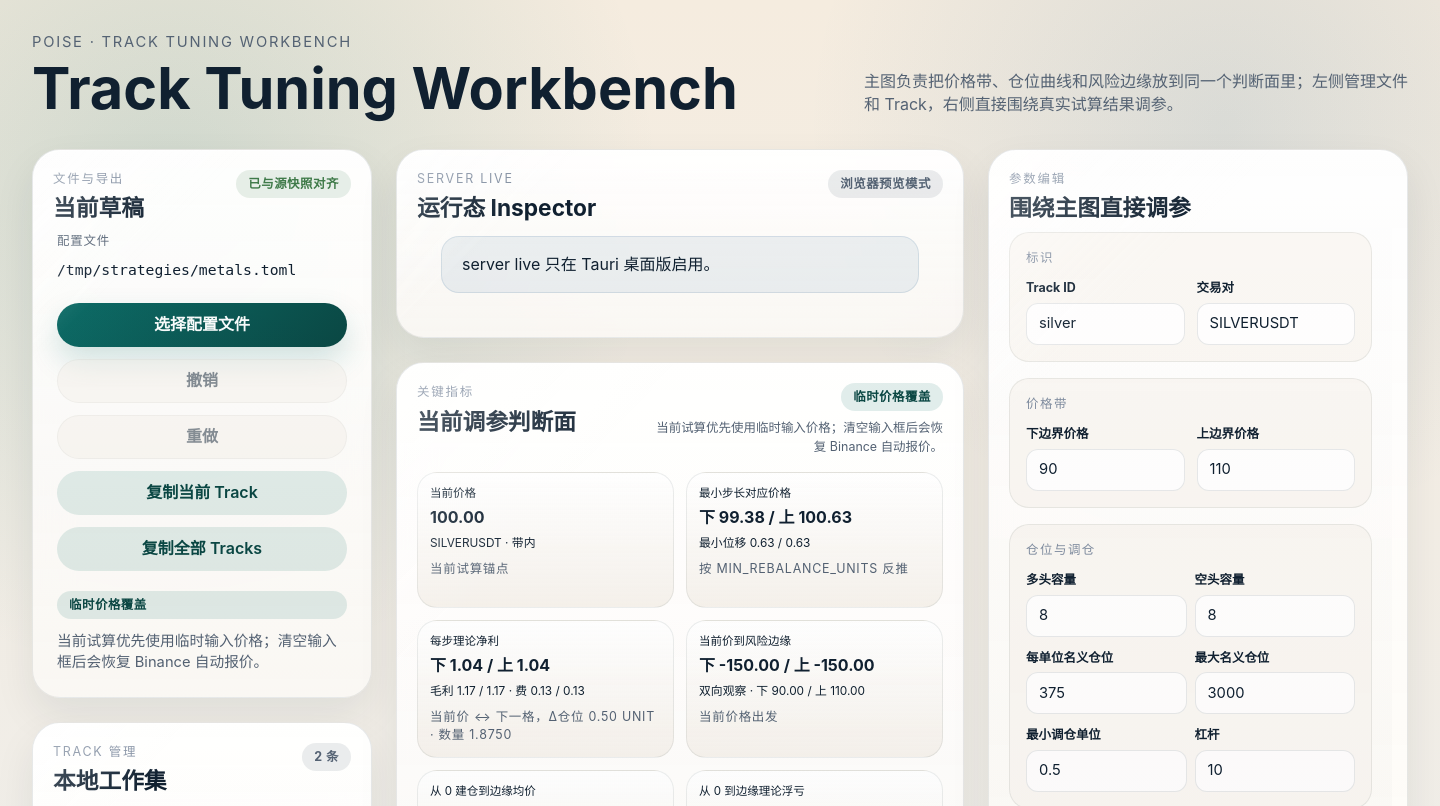
Test case: AppShell › recomputes min rebalance metrics when the min rebalance units field changes
Expected: the text "最小位移 0.63 / 0.63" is shown, top-left (699, 536), bottom-right (810, 550)
Expected: the text "下 1.04 / 上 1.04" is shown, top-left (430, 655), bottom-right (550, 675)
Replace the text in the field labelled "最小调仓单位" with "1.0" at (1106, 771), box top-left (1026, 750), bottom-right (1186, 792)
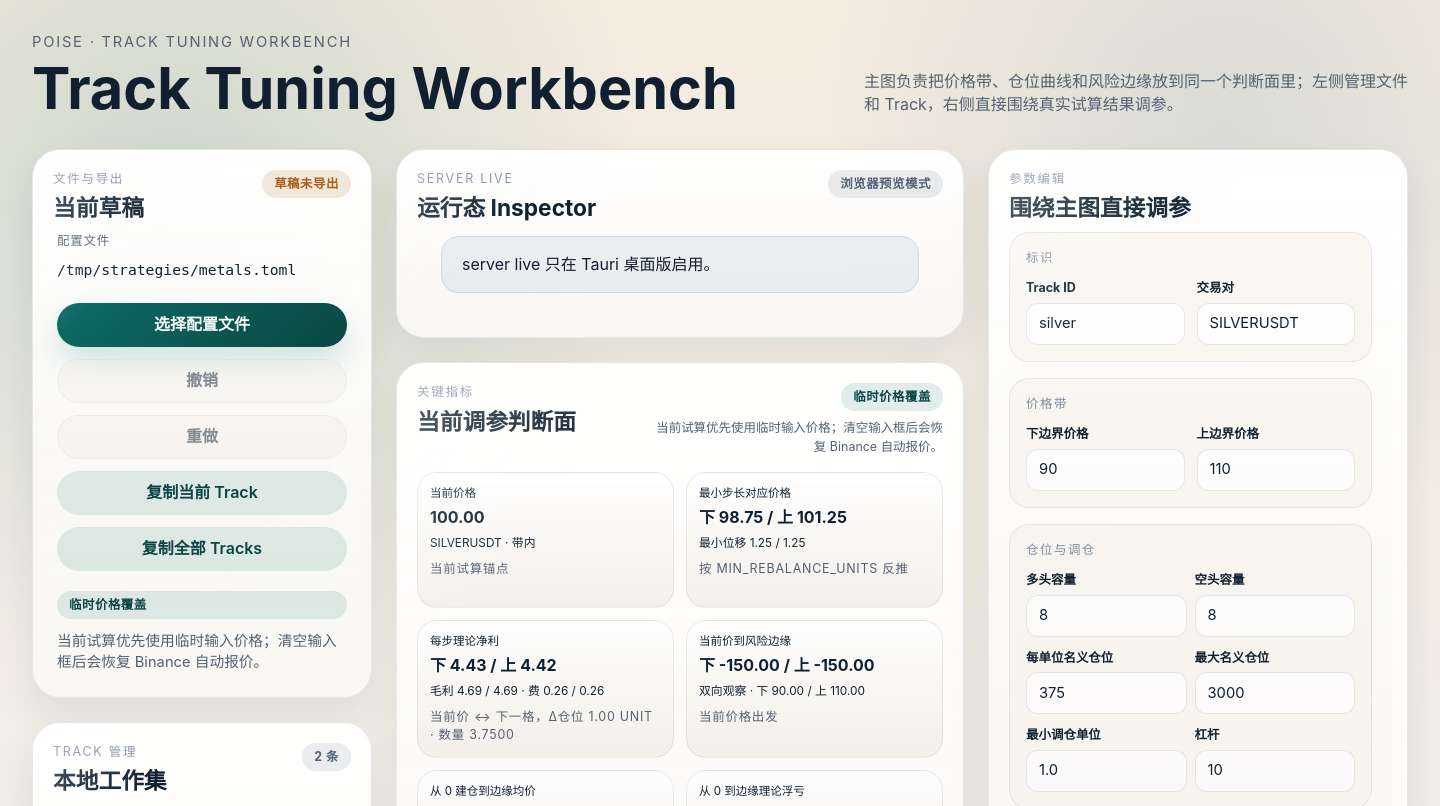
Result: the text "最小位移 1.25 / 1.25" is shown at top-left (699, 536), bottom-right (806, 550)
Result: the text "下 98.75 / 上 101.25" is shown at top-left (699, 507), bottom-right (847, 527)
Result: the text "下 4.43 / 上 4.42" is shown at top-left (430, 655), bottom-right (557, 675)
